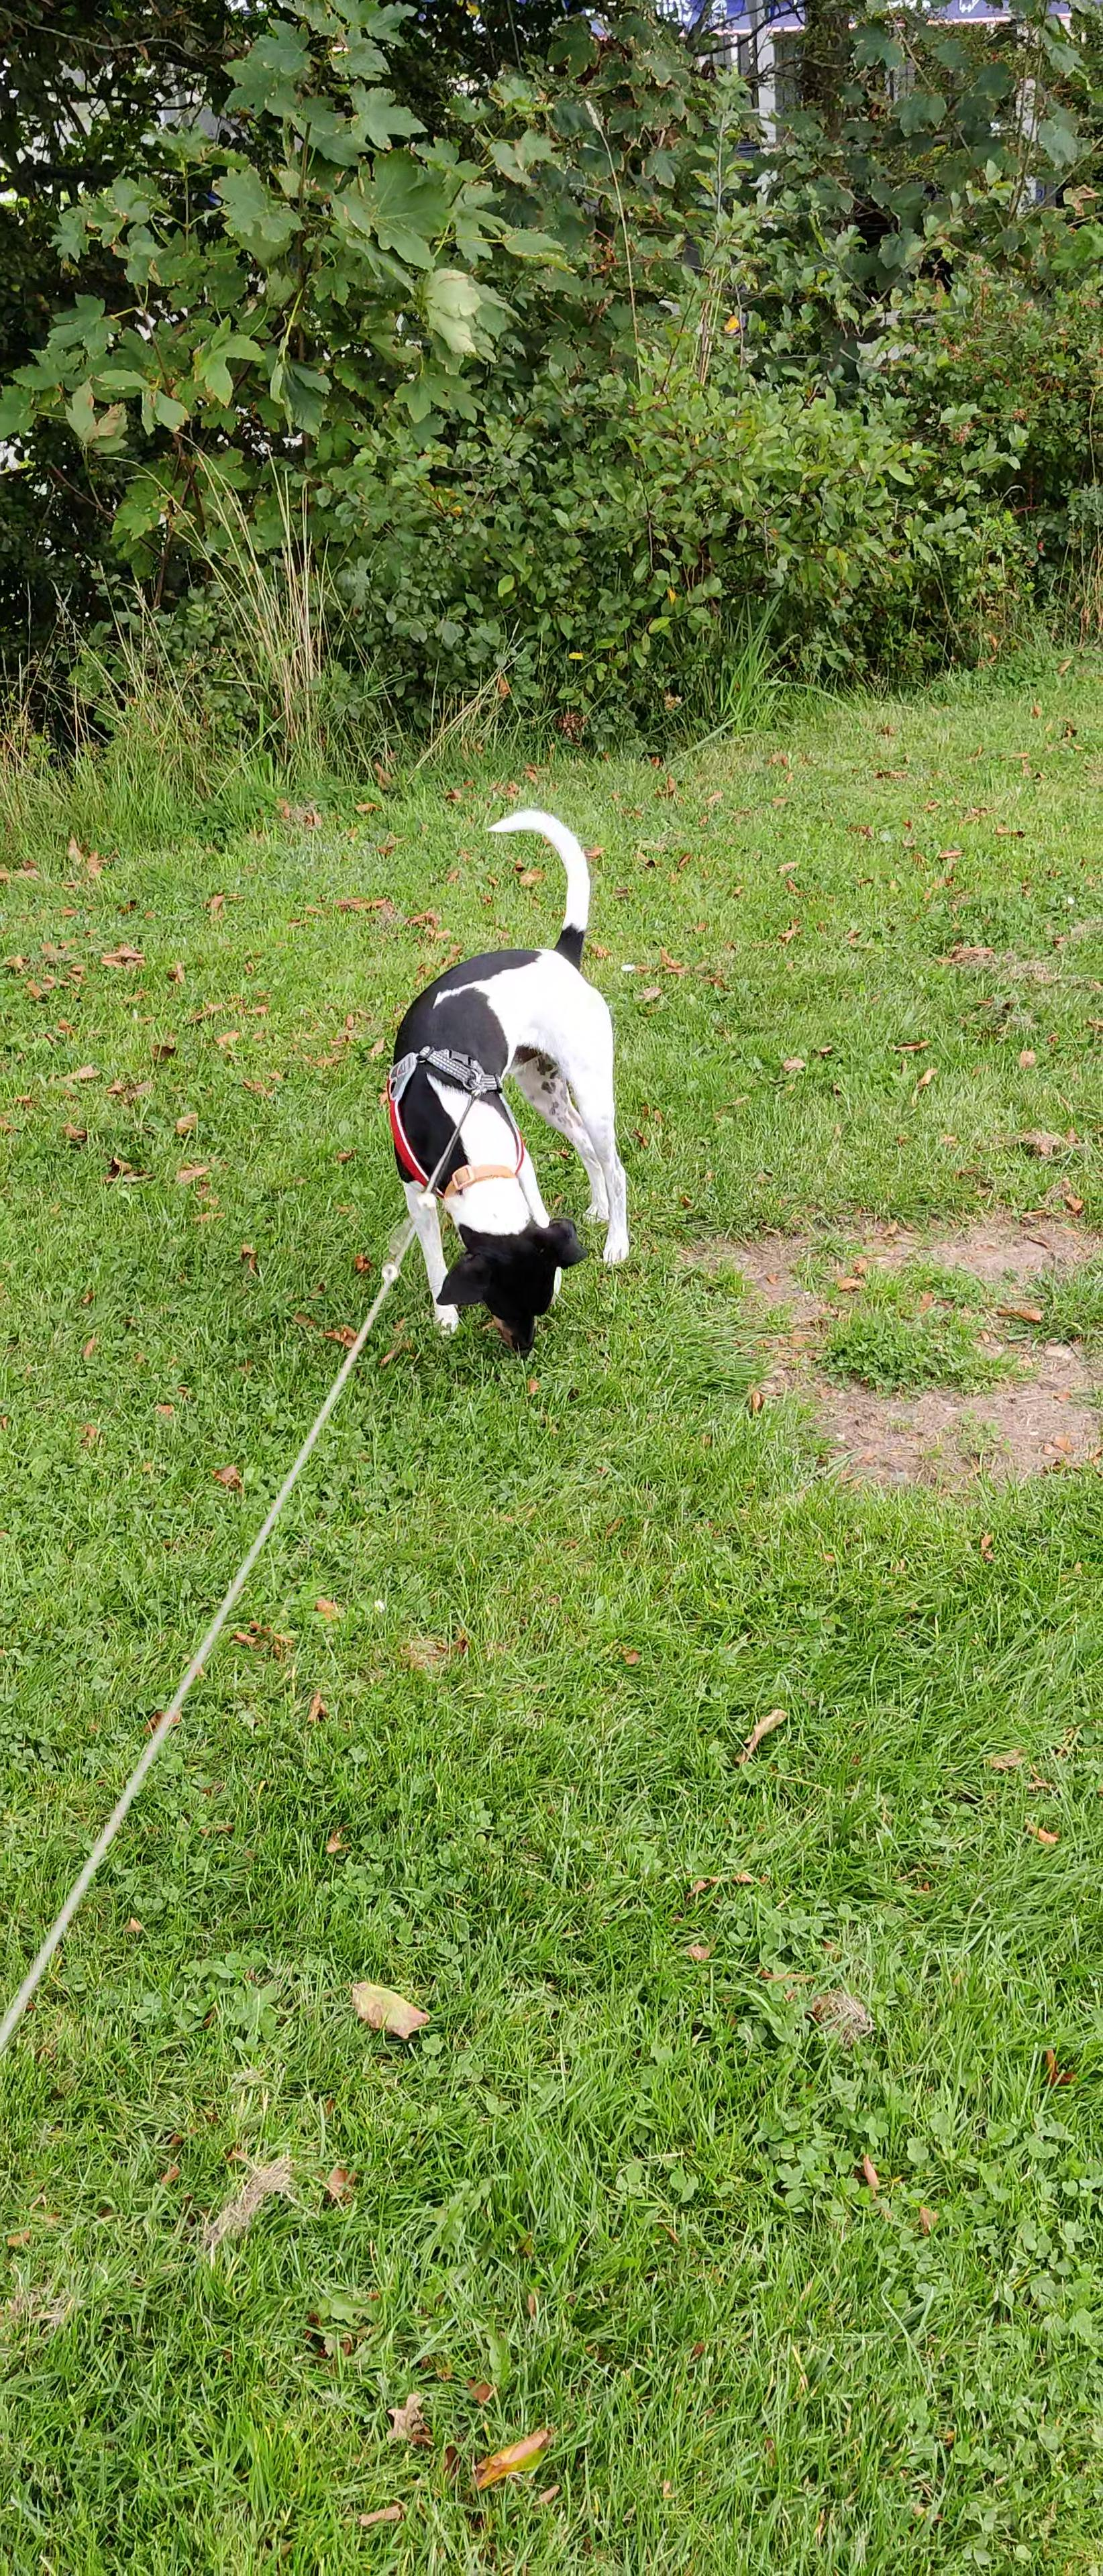Dog: (353, 797, 712, 1383)
